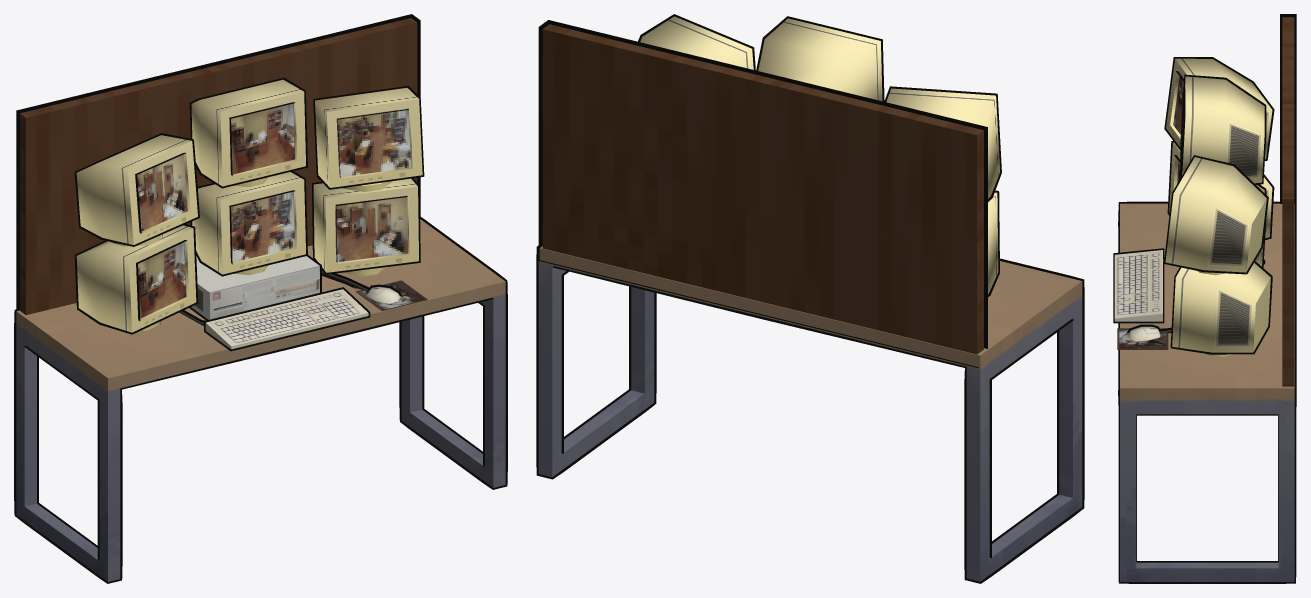
The model's file is Mesa segurança.glb.
3 renders of one model, left to right at view 1: azimuth 30°, elevation 25°; view 2: azimuth 150°, elevation 25°; view 3: azimuth 270°, elevation 25°, orthographic. The views are drawn at different scales.
Parts seen in each view (by area): view 1: Mesa segurança; view 2: Mesa segurança; view 3: Mesa segurança.
Boxes of the visible parts, bbox=[...] form: Mesa segurança: bbox=[14, 14, 507, 583]; Mesa segurança: bbox=[536, 14, 1084, 583]; Mesa segurança: bbox=[1113, 14, 1296, 583].
Bounding box in the file's own units: 1.52 × 1.48 × 0.6304.
Materials: 7 (6 with a texture image).
